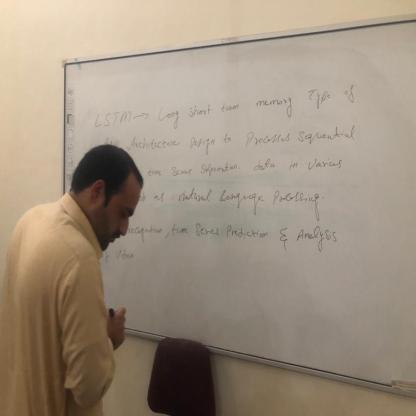Handwritten text: (85, 75, 372, 131), (121, 217, 338, 260), (128, 118, 365, 156), (145, 188, 331, 225), (142, 154, 347, 185)
Lecturer: (1, 139, 150, 416)
Whiteboard: (63, 14, 416, 397)
